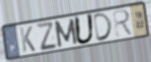D: (92, 11, 114, 43)
K: (19, 25, 37, 54)
M: (53, 18, 79, 49)
R: (111, 7, 135, 38)
U: (73, 13, 96, 46)
Z: (35, 21, 59, 52)
